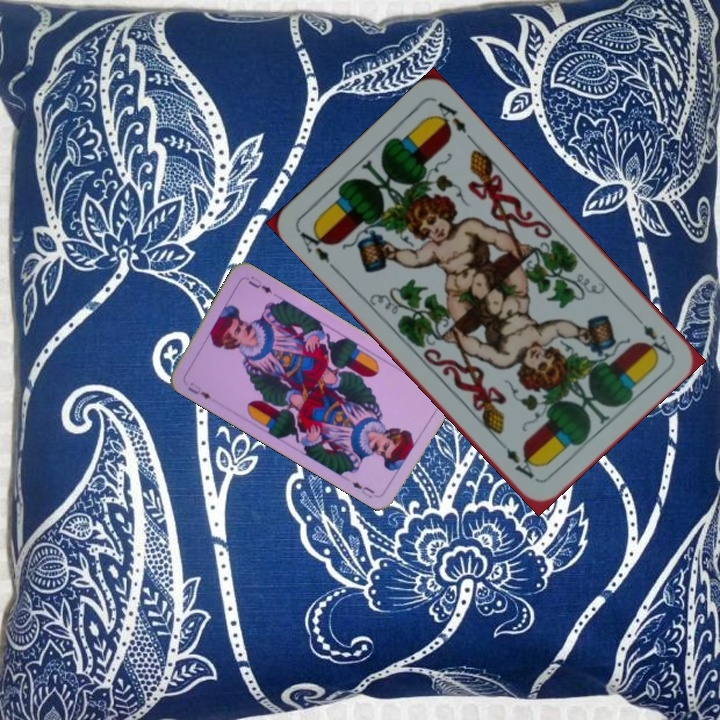EA: (294, 224, 334, 266), (638, 321, 674, 358)
EU: (184, 378, 214, 402)
